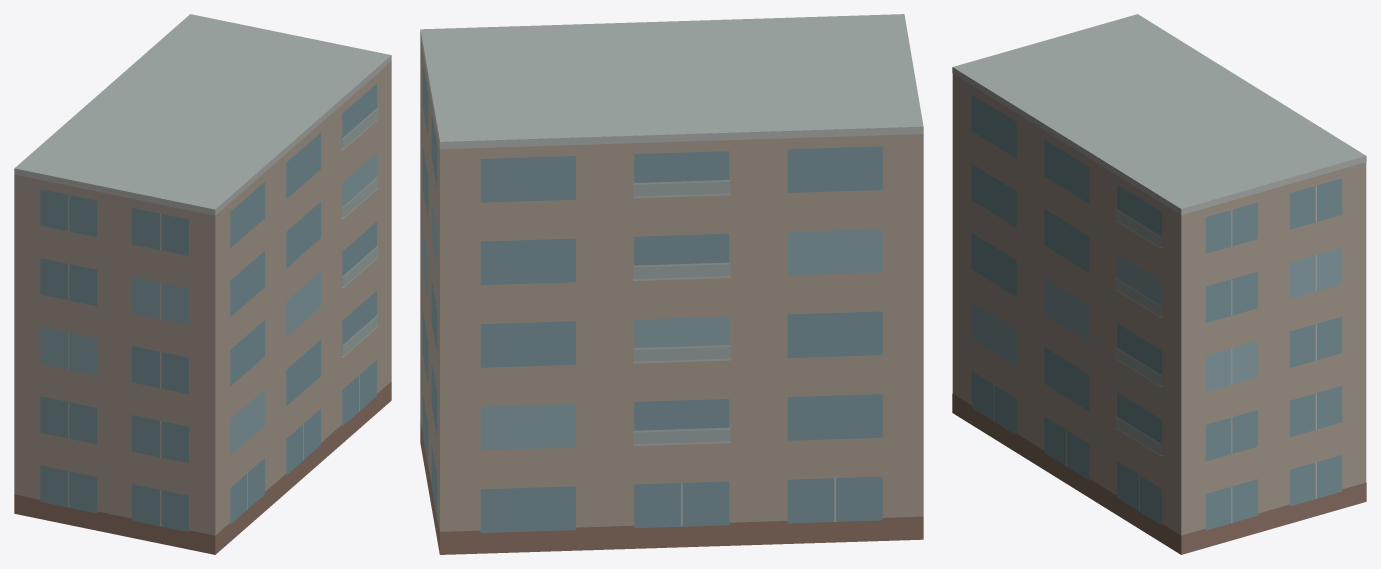
File: survey-upis-32884969.glb
3 views of the same model, side by side, from view 1: azimuth 30°, elevation 25°; view 2: azimuth 150°, elevation 25°; view 3: azimuth 270°, elevation 25° (orthographic). The views are drawn at different scales.
Parts seen in each view (by area): view 1: survey-upis-32884969.tmp; view 2: survey-upis-32884969.tmp; view 3: survey-upis-32884969.tmp.
Part boxes in pixels (bbox=[...]): survey-upis-32884969.tmp: bbox=[14, 14, 391, 554]; survey-upis-32884969.tmp: bbox=[420, 14, 923, 554]; survey-upis-32884969.tmp: bbox=[952, 14, 1366, 554].
Size of the model in its own units: 16.58 by 13.7 by 14.87.
